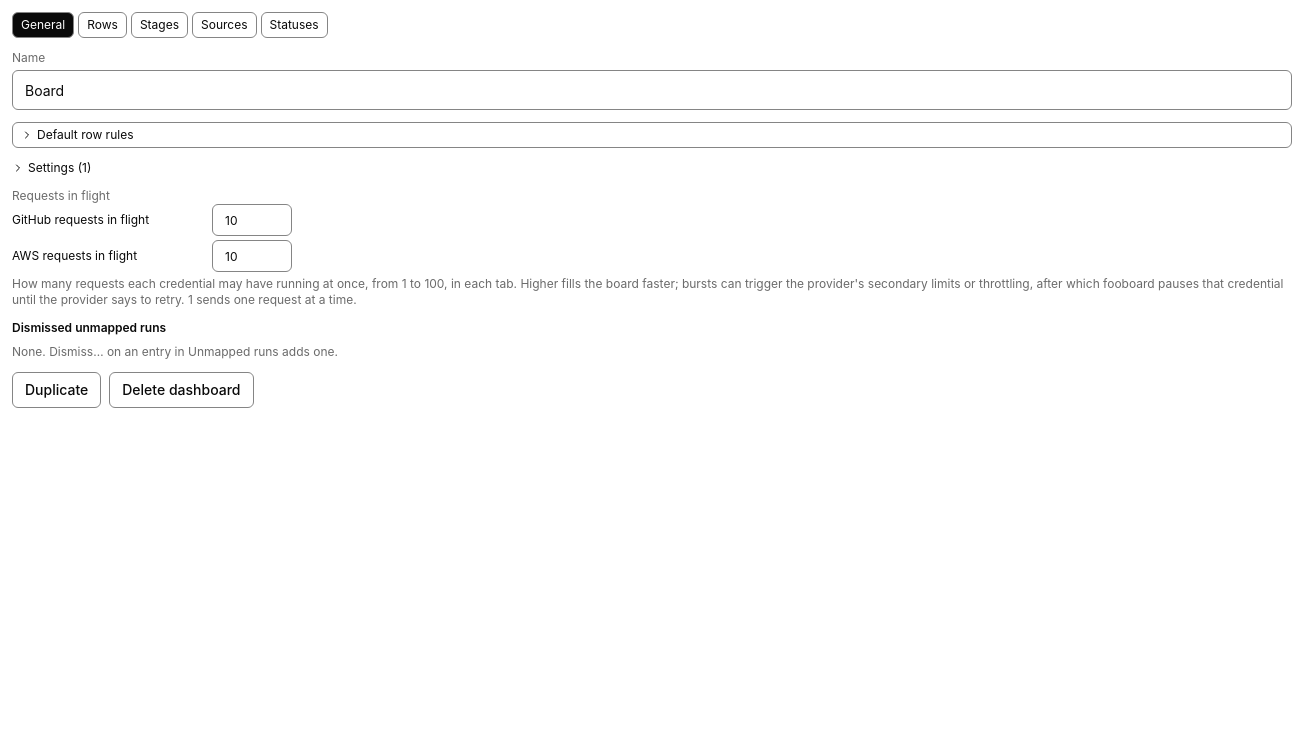
it: row groups in the editor › finds a row's branches and offers them in its fields, not as a list
The width and height of the screenshot is (1304, 732).
Press the mouse on the tab "Rows" at {"x": 103, "y": 25}, box [78,12,127,38]
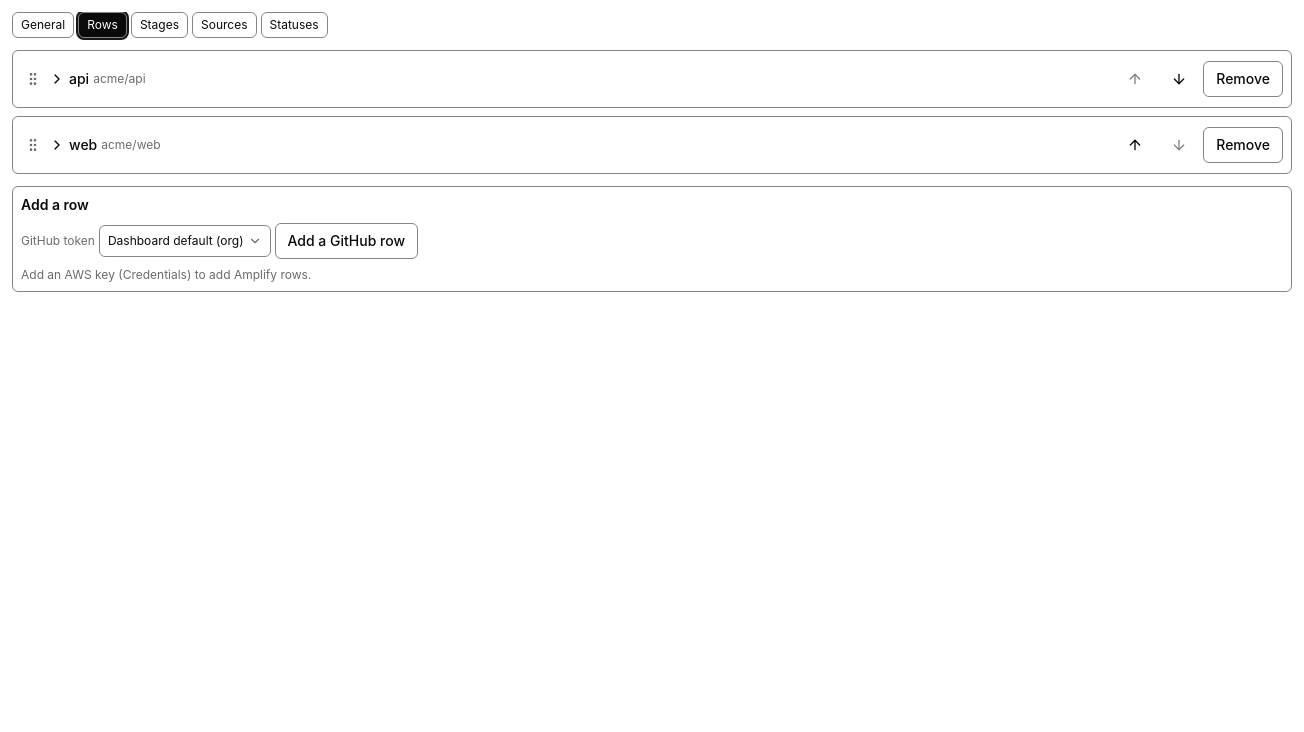
Click the button "api acme/api" at {"x": 119, "y": 78}, box [49,69,1111,89]
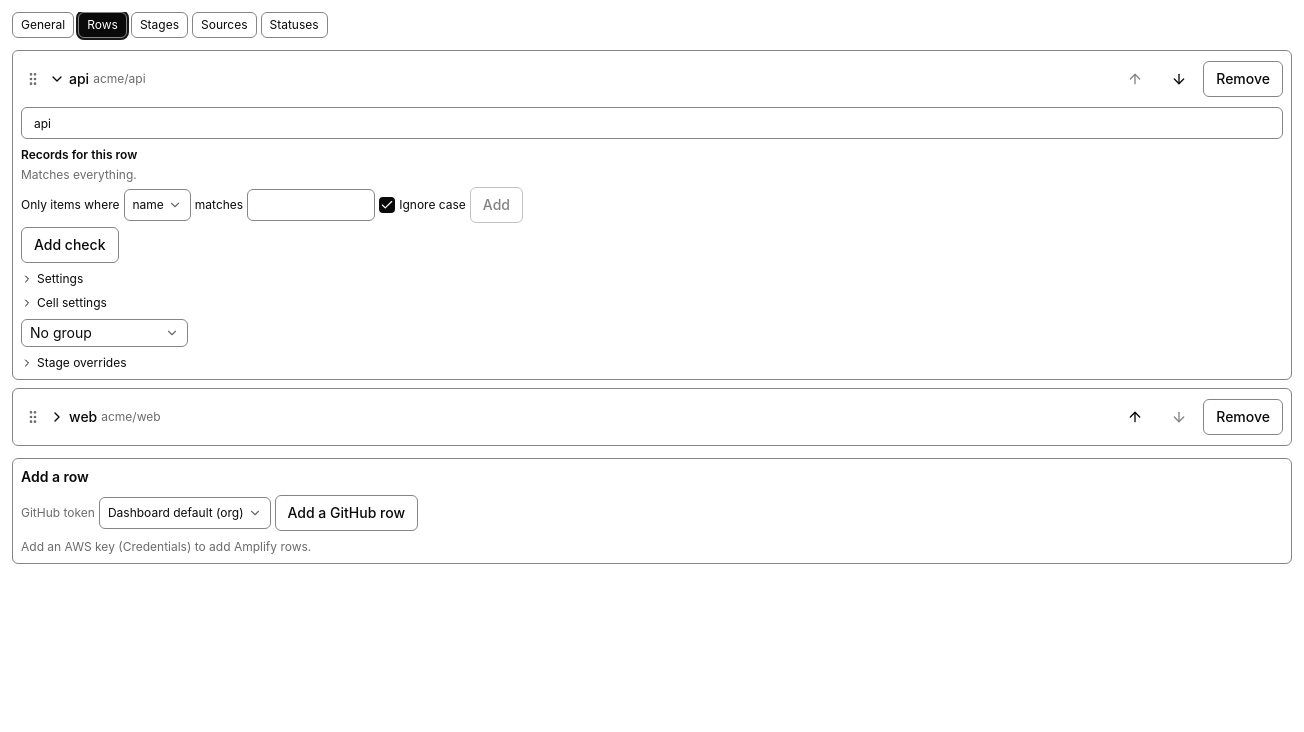
Click the button "Stage overrides" at {"x": 74, "y": 363}, box [21,355,126,371]
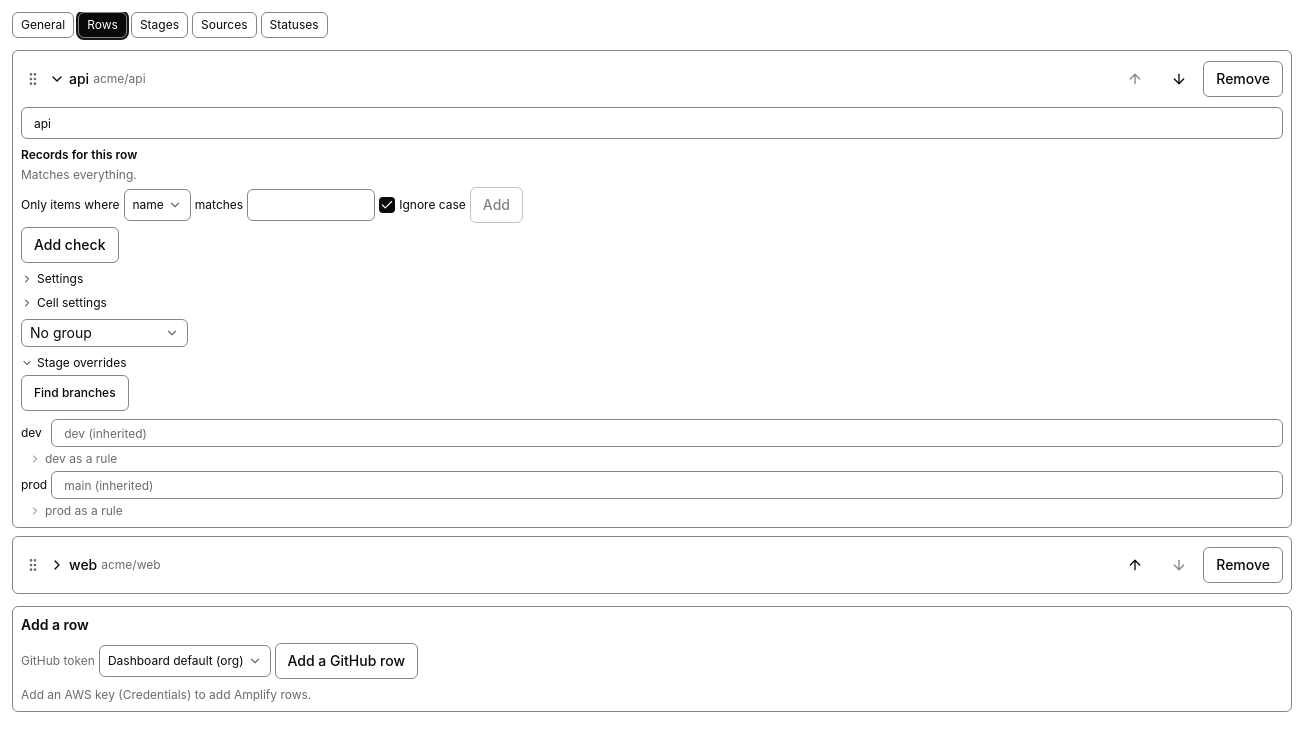
Click the button "Find branches" at {"x": 75, "y": 393}, box [21,375,129,411]
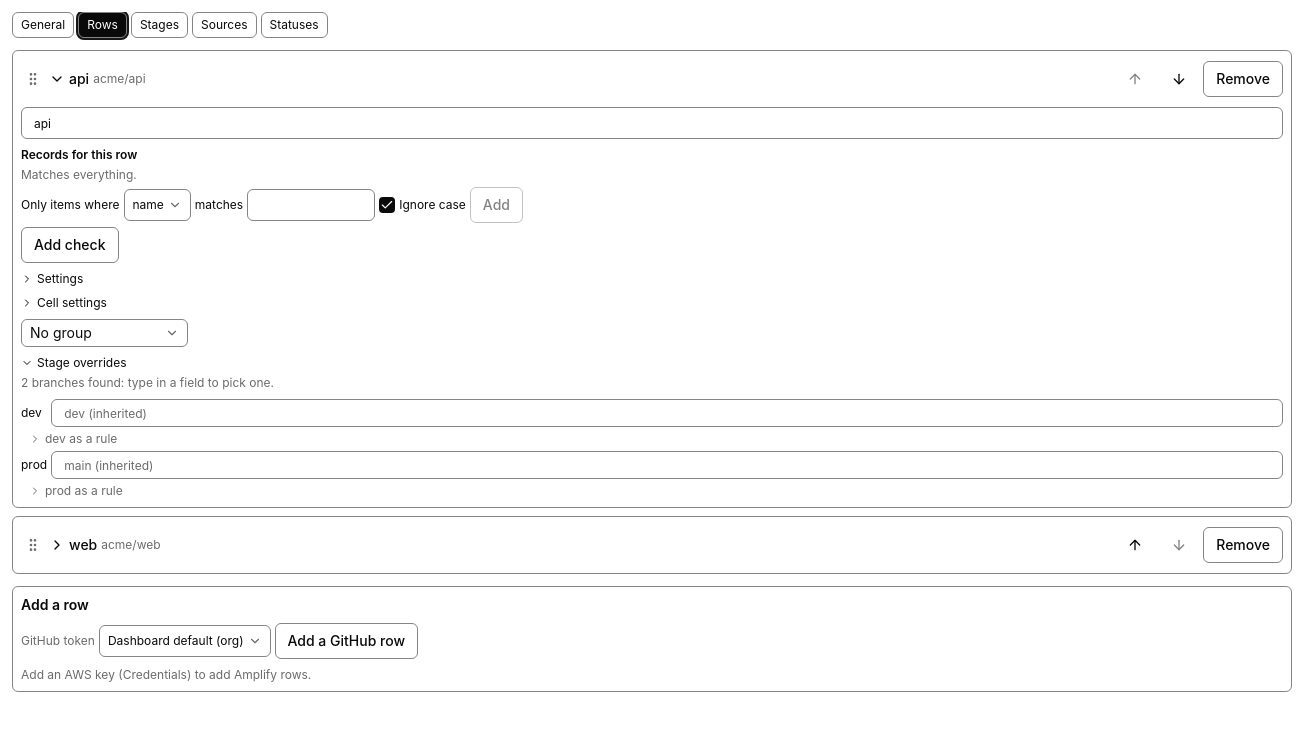
Result: the text "2 branches found: type in a field to pick one." is shown at [21,375,274,390]
